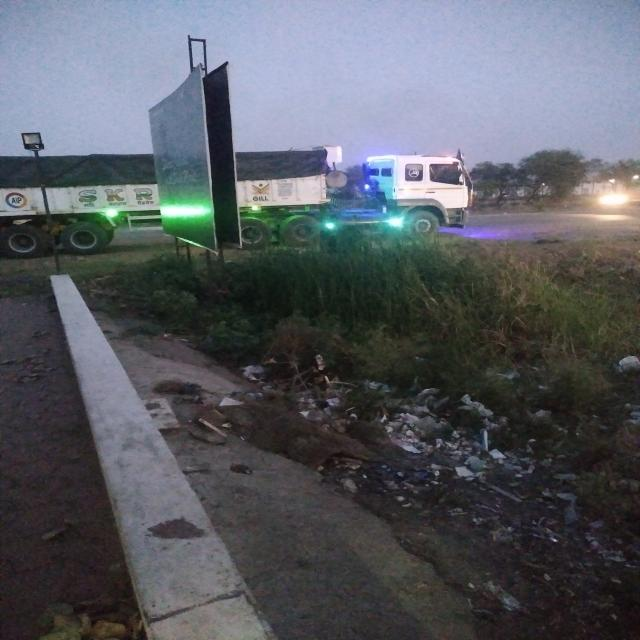Truck: (0, 138, 503, 273)
